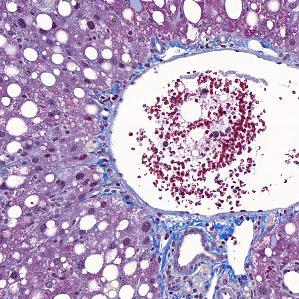fibrosis: (150, 217, 239, 289)
